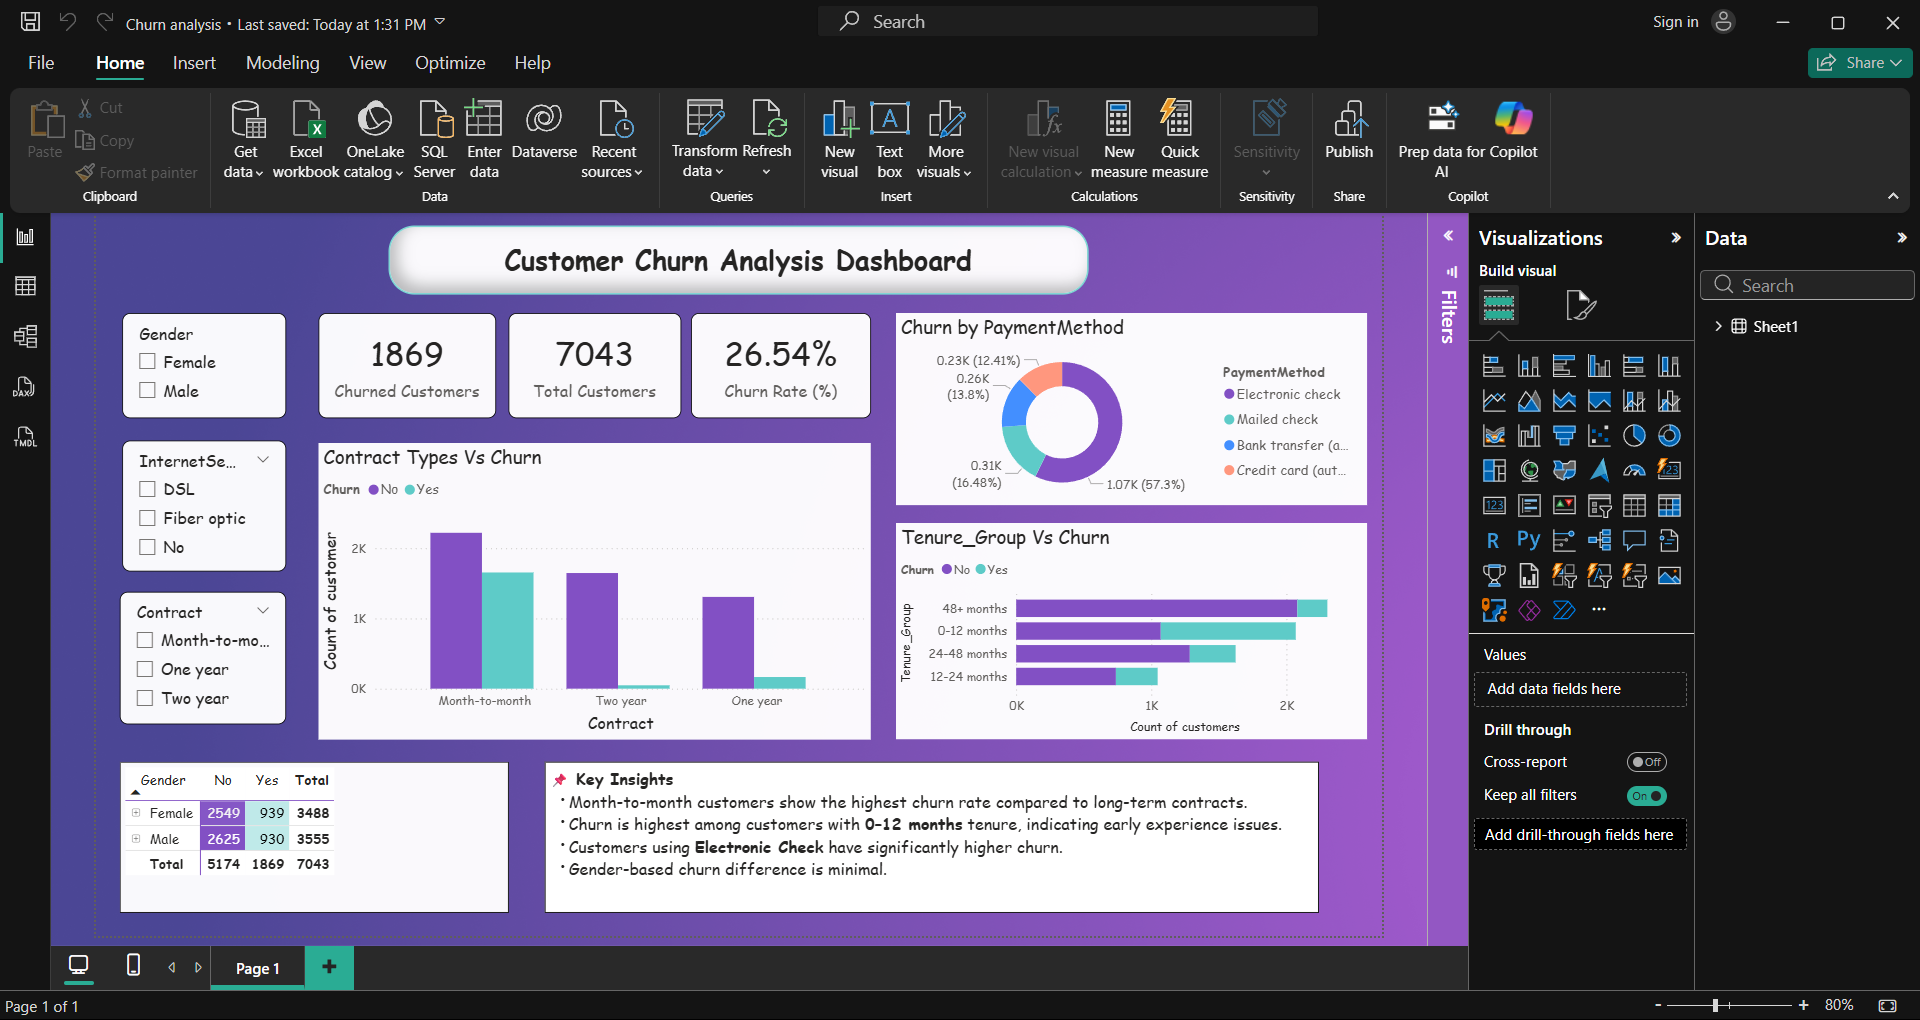

What the dashboard file says about the page in this screenshot:
{"tool":"powerbi","page":{"name":"Page 1","canvas":[1280,720],"ordinal":0},"visuals":[{"type":"card","fields":{"Values":["CountNonNull(WA_Fn-UseC_-Telco-Customer-Chur.customerID)"]},"box":[410.5,99.5,171.7,104.5],"z":0},{"type":"card","fields":{"Values":["CountNonNull(WA_Fn-UseC_-Telco-Customer-Chur.Churn)"]},"box":[221.4,99.5,176.6,104.5],"z":1000},{"type":"card","fields":{"Values":["Sheet1.Churn Rate"]},"box":[592.1,99.5,179.1,104.5],"z":2000},{"type":"clusteredColumnChart","title":"Contract Types Vs Churn","fields":{"Category":["Sheet1.Contract"],"Series":["Sheet1.Churn"],"Y":["CountNonNull(Sheet1.customerID)"]},"box":[221.4,228.9,549.8,294.8],"z":3000},{"type":"barChart","title":"Tenure_Group Vs Churn","fields":{"Category":["Sheet1.Tenure_Group"],"Y":["CountNonNull(Sheet1.customerID)"],"Series":["Sheet1.Churn"]},"box":[796.1,308.5,469,215.2],"z":4000},{"type":"donutChart","title":"Churn by PaymentMethod","fields":{"Category":["Sheet1.PaymentMethod"],"Y":["CountNonNull(Sheet1.customerID)"]},"box":[796.1,99.5,469,191.6],"z":5000},{"type":"slicer","fields":{"Values":["Sheet1.gender"]},"box":[26.1,99.5,163,104.5],"z":6000},{"type":"slicer","fields":{"Values":["Sheet1.InternetService"]},"box":[26.1,226.4,163,130.6],"z":7000},{"type":"slicer","fields":{"Values":["Sheet1.Contract"]},"box":[23.6,376.9,165.4,131.9],"z":8000},{"type":"pivotTable","fields":{"Rows":["Sheet1.gender","Sheet1.InternetService","Sheet1.Contract","Sheet1.SeniorCitizen","Sheet1.PaymentMethod"],"Columns":["Sheet1.Churn"],"Values":["CountNonNull(Sheet1.customerID)"]},"box":[23.6,546.1,386.9,150.5],"z":9000},{"type":"textbox","box":[291.1,12.4,696.6,68.4],"z":10000},{"type":"textbox","box":[446.6,546.1,770,150.5],"z":11000}]}

Visuals, with their boxes on the page's 1280x720 design canvas (x1, y1, x2, y2). These are canvas units, not pixel positions in the 1920x1020 screenshot, which may show the page scaled, cropped or inside an application window:
card - CountNonNull(WA_Fn-UseC_-Telco-Customer-Chur.customerID): (x1=410, y1=100, x2=582, y2=204)
card - CountNonNull(WA_Fn-UseC_-Telco-Customer-Chur.Churn): (x1=221, y1=100, x2=398, y2=204)
card - Sheet1.Churn Rate: (x1=592, y1=100, x2=771, y2=204)
"Contract Types Vs Churn" clusteredColumnChart: (x1=221, y1=229, x2=771, y2=524)
"Tenure_Group Vs Churn" barChart: (x1=796, y1=308, x2=1265, y2=524)
"Churn by PaymentMethod" donutChart: (x1=796, y1=100, x2=1265, y2=291)
slicer - Sheet1.gender: (x1=26, y1=100, x2=189, y2=204)
slicer - Sheet1.InternetService: (x1=26, y1=226, x2=189, y2=357)
slicer - Sheet1.Contract: (x1=24, y1=377, x2=189, y2=509)
pivotTable - Sheet1.gender x Sheet1.InternetService: (x1=24, y1=546, x2=410, y2=697)
textbox: (x1=291, y1=12, x2=988, y2=81)
textbox: (x1=447, y1=546, x2=1217, y2=697)
